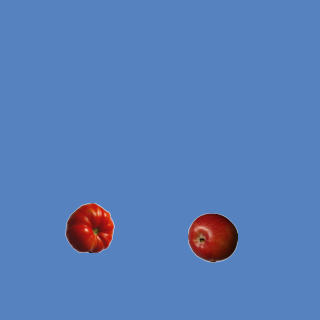Apple Braeburn: (187, 212, 237, 262)
Tomato 3: (64, 202, 114, 252)
